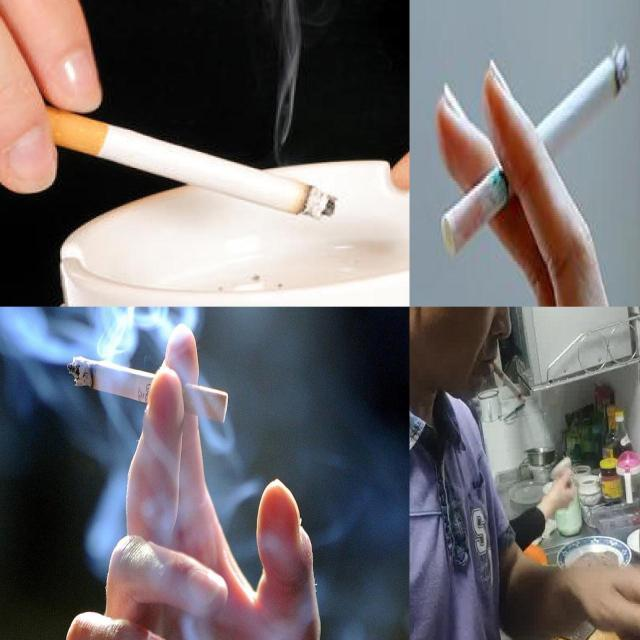smoking: (441, 44, 629, 260), (38, 101, 340, 218), (67, 356, 229, 424), (490, 358, 522, 401)
